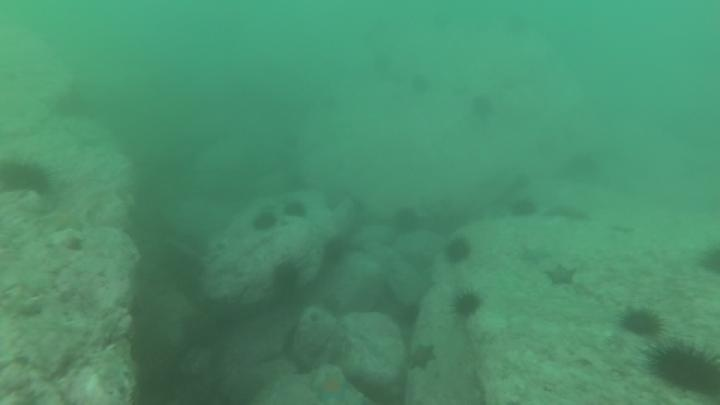echinus: (646, 338, 720, 398), (1, 156, 53, 199), (618, 305, 665, 339), (561, 149, 603, 184), (269, 258, 304, 296), (450, 289, 484, 321), (441, 235, 474, 267), (320, 235, 351, 268), (390, 205, 422, 236), (391, 300, 423, 331), (467, 92, 497, 122), (249, 208, 280, 235), (507, 195, 539, 221), (697, 242, 720, 277), (408, 71, 434, 98), (281, 198, 310, 221)
starfish: (308, 365, 355, 405), (41, 203, 87, 235), (405, 341, 438, 373), (542, 261, 579, 289), (517, 242, 554, 267)
